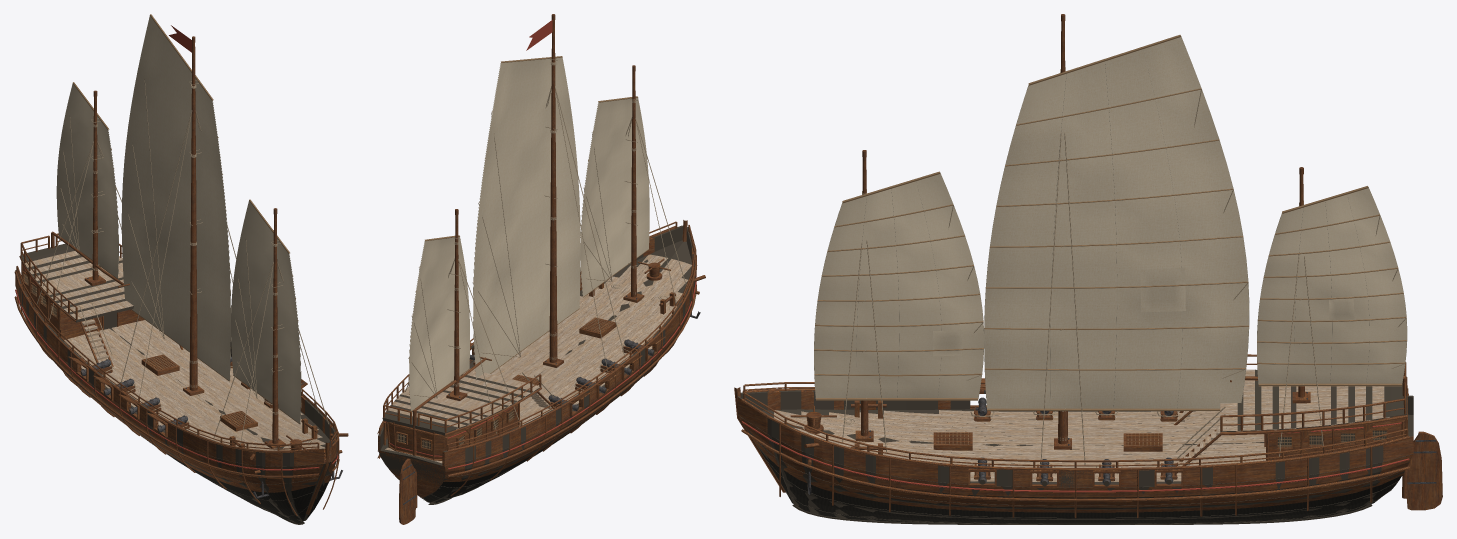
File: fuchuan-lod2.glb
3 views of the same model, side by side, from view 1: azimuth 30°, elevation 25°; view 2: azimuth 150°, elevation 25°; view 3: azimuth 270°, elevation 25° (orthographic). The views are drawn at different scales.
Parts seen in each view (by area): view 1: sail_1, deck, hull, sail_0, sail_2, shadow_hull, deck_fittings, bulwark_rails, mast_timber_1, shadow_deck, sterncastle, mast_timber_0 (+6 smaller); view 2: sail_1, deck, sail_0, hull, sail_2, shadow_hull, deck_fittings, bulwark_rails, mast_timber_1, shadow_deck, mast_timber_0, stern_transom (+7 smaller); view 3: sail_1, hull, sail_0, sail_2, deck, shadow_hull, deck_fittings, bulwark_rails, shadow_deck, rudder_blade, sterncastle, rigging_1.
Part boxes in pixels (x1,y1,x2,y2): sail_1: (121, 14, 231, 381); deck: (19, 251, 325, 450); hull: (14, 270, 339, 524); sail_0: (231, 199, 301, 424); sail_2: (56, 82, 118, 278); shadow_hull: (15, 270, 337, 522); deck_fittings: (21, 262, 348, 498); bulwark_rails: (16, 233, 338, 453); mast_timber_1: (189, 43, 197, 390); shadow_deck: (21, 243, 133, 322); sterncastle: (23, 266, 144, 339); mast_timber_0: (272, 214, 278, 443); sail_1: (472, 56, 580, 378); deck: (382, 254, 691, 463); sail_0: (580, 96, 649, 297); hull: (377, 220, 697, 504); sail_2: (408, 235, 469, 411); shadow_hull: (378, 225, 695, 502); deck_fittings: (383, 258, 705, 460); bulwark_rails: (379, 221, 695, 450); mast_timber_1: (549, 20, 557, 362); shadow_deck: (383, 374, 540, 435); mast_timber_0: (631, 71, 636, 297); stern_transom: (388, 422, 444, 458); sail_1: (984, 35, 1249, 411); hull: (734, 387, 1413, 524); sail_0: (814, 171, 984, 400); sail_2: (1257, 186, 1407, 386); deck: (774, 369, 1407, 481); shadow_hull: (738, 390, 1413, 523); deck_fittings: (790, 385, 1407, 494); bulwark_rails: (743, 354, 1408, 467); shadow_deck: (1220, 369, 1407, 432); rudder_blade: (1406, 431, 1442, 510); sterncastle: (1266, 418, 1404, 460); rigging_1: (1040, 132, 1085, 465).
Bounding box in the file's own units: 10.4 × 26.66 × 33.57.
Materials: 11 (6 with a texture image).
